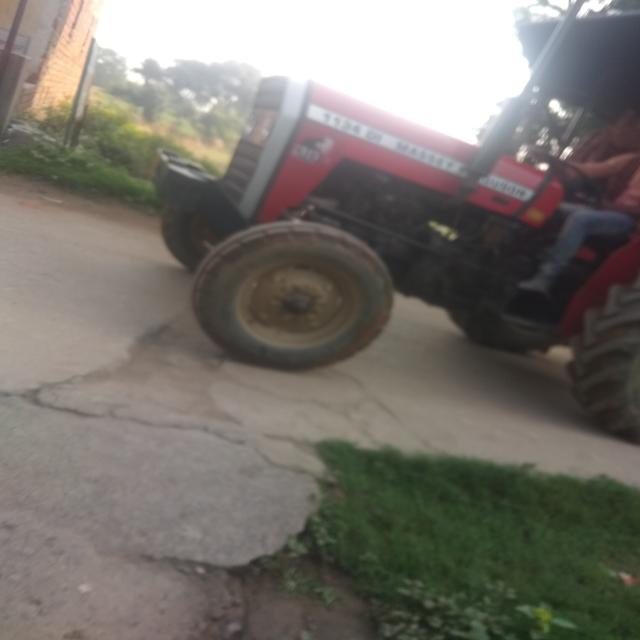Tractor: (142, 1, 640, 423)
